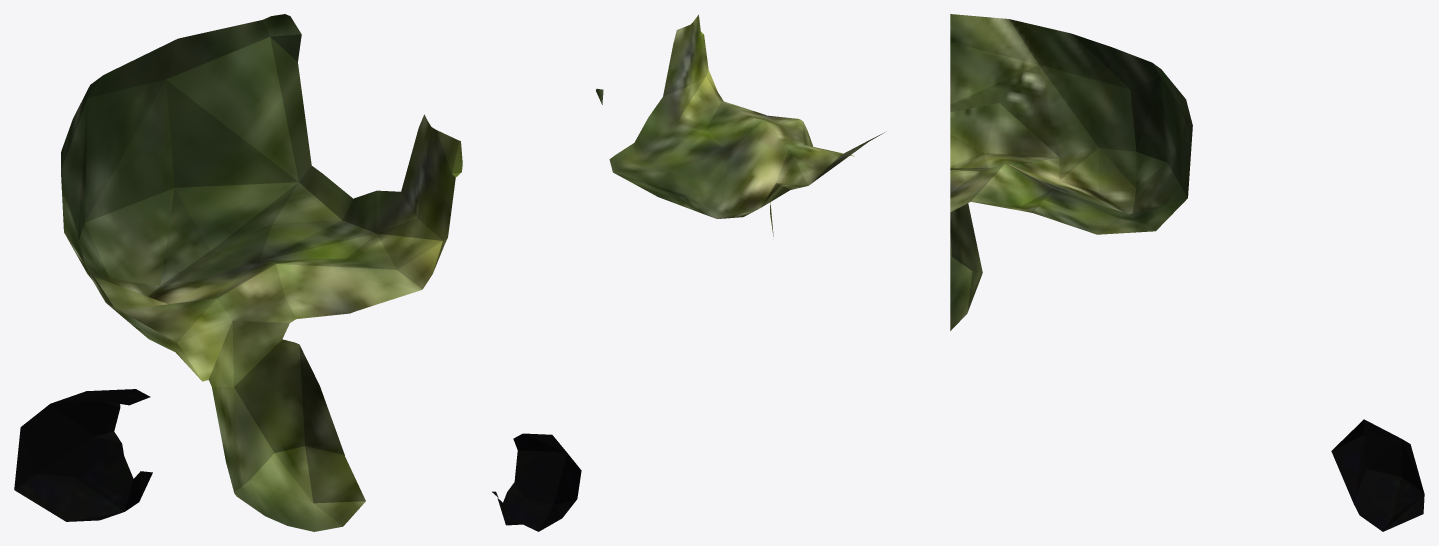
The picture shows the model from 3 angles, left to right: view 1: azimuth 30°, elevation 25°; view 2: azimuth 150°, elevation 25°; view 3: azimuth 270°, elevation 25°; orthographic projection. The views are drawn at different scales.
Bounding box in the file's own units: 0.5799 × 0.9087 × 0.9672.
Materials: 1 (1 with a texture image).
